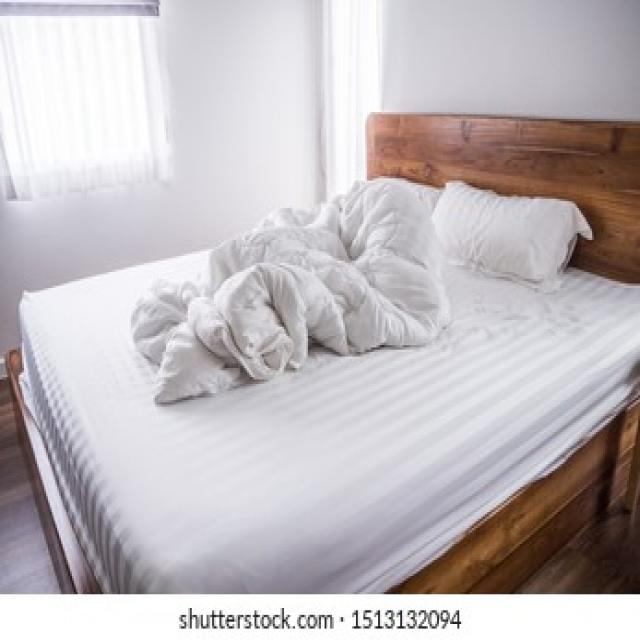bed: (0, 177, 640, 588)
